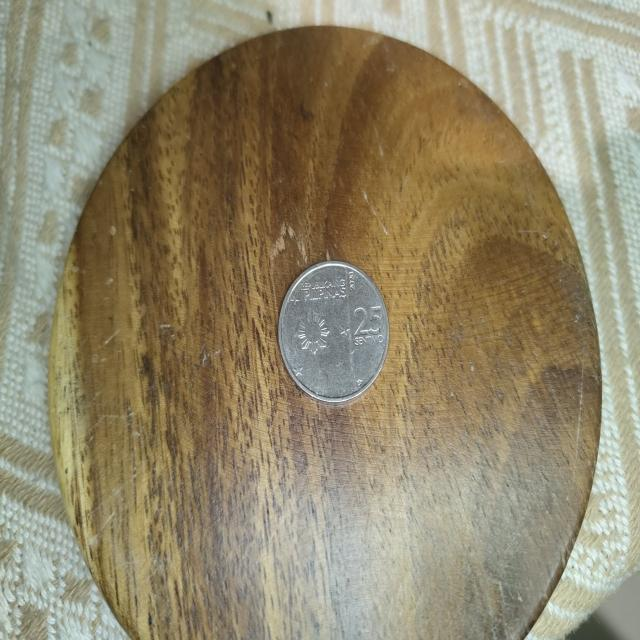25 cents: (274, 242, 394, 415)
